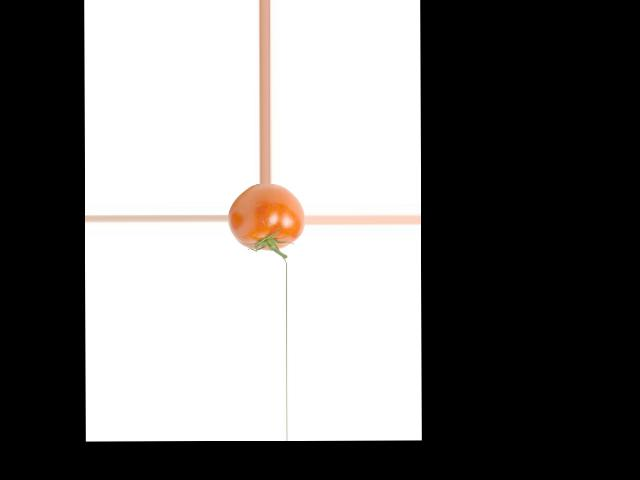tomato: (227, 184, 304, 251)
